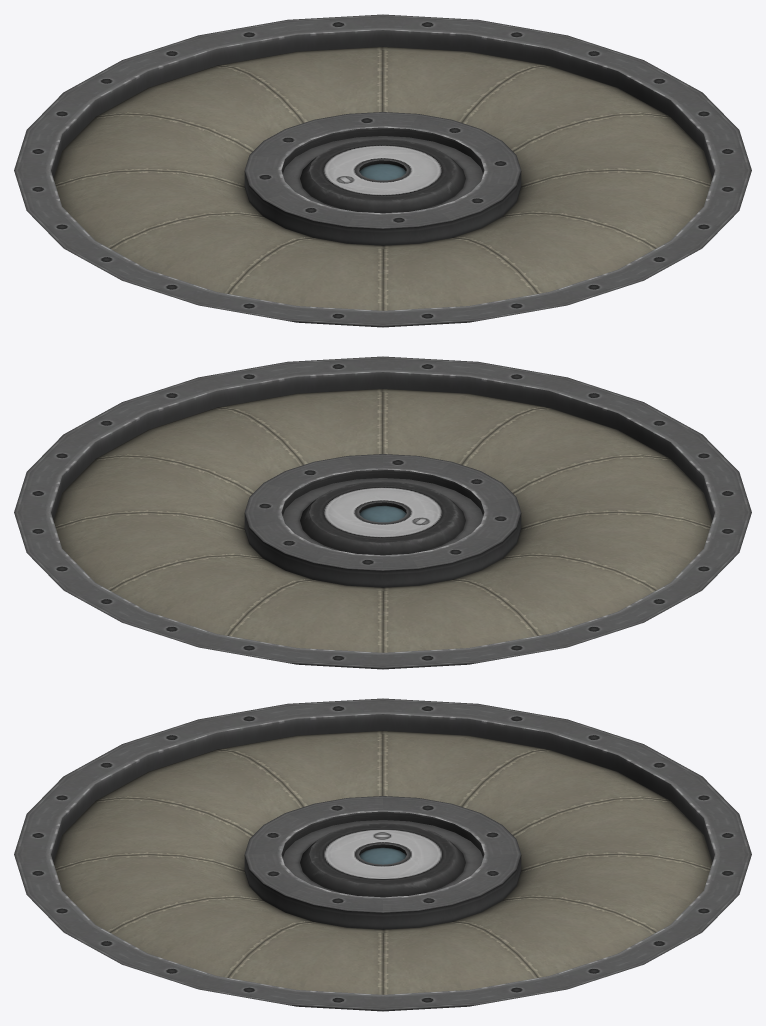
Rendered from end_crew_s2_s0p5.obj.
3 views of the same model, one above another, from view 1: azimuth 30°, elevation 25°; view 2: azimuth 150°, elevation 25°; view 3: azimuth 270°, elevation 25° (orthographic).
Parts seen in each view (by area): view 1: end; view 2: end; view 3: end.
Boxes of the visible parts, bbox=[...] form: end: bbox=[14, 14, 751, 327]; end: bbox=[14, 356, 751, 669]; end: bbox=[14, 698, 751, 1011].
Size of the model in its own units: 2.5 by 0.0625 by 2.5.
